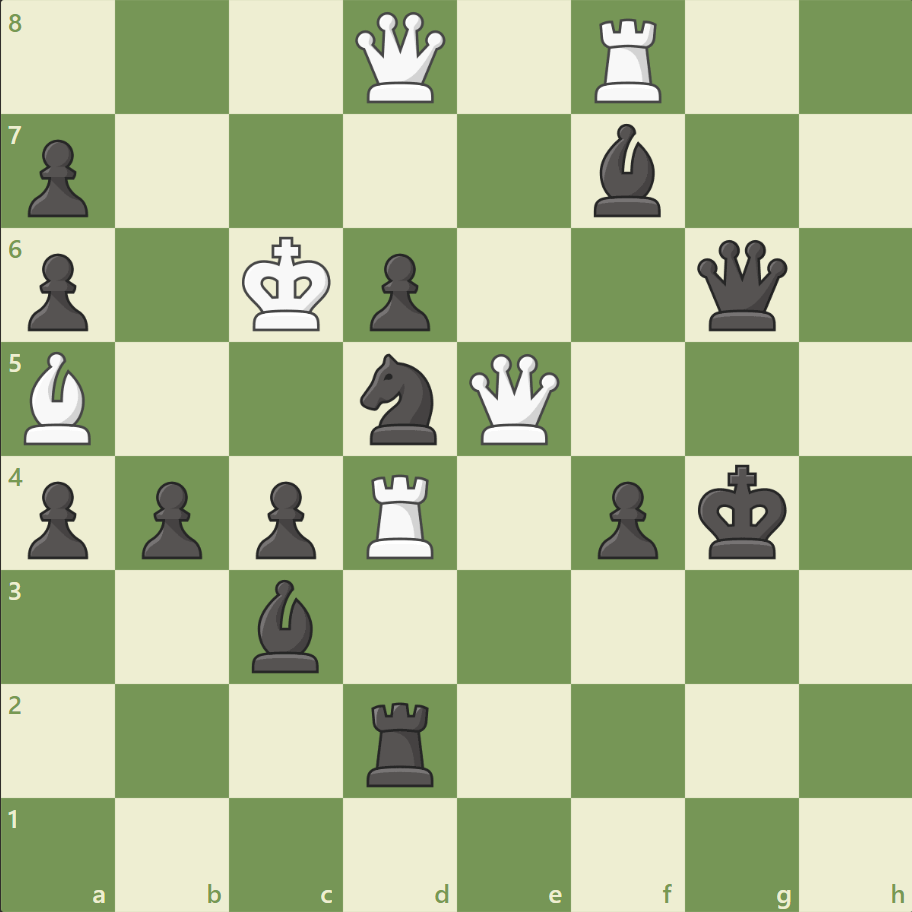B: (17, 347, 101, 449)
K: (238, 231, 338, 339)
Q: (464, 349, 563, 449), (351, 9, 450, 108)
R: (587, 12, 670, 109), (360, 466, 442, 563)
b: (585, 120, 669, 222), (244, 574, 328, 676)
k: (692, 458, 792, 566)
n: (351, 348, 449, 450)
p: (20, 132, 95, 223), (20, 246, 95, 337), (20, 473, 95, 564), (133, 473, 208, 564), (247, 473, 322, 564), (361, 246, 435, 337), (588, 473, 662, 564)
q: (691, 236, 790, 335)
r: (360, 693, 442, 790)
